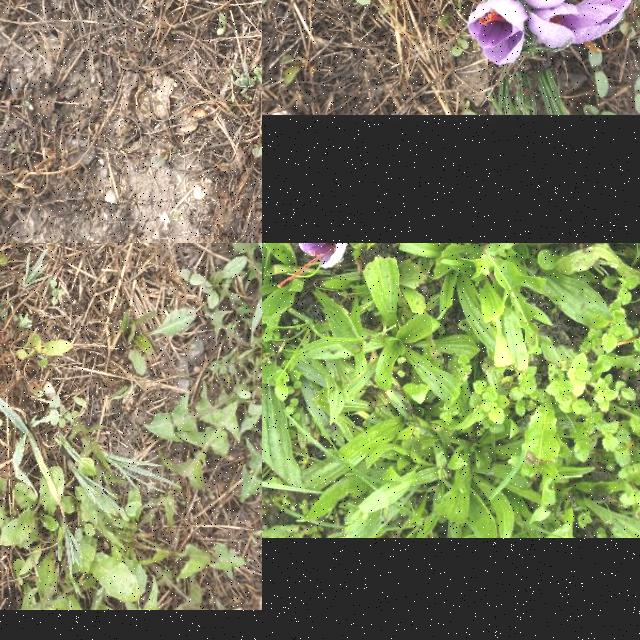flower: (527, 0, 632, 50), (468, 0, 530, 66), (276, 243, 347, 290), (521, 0, 573, 9)
